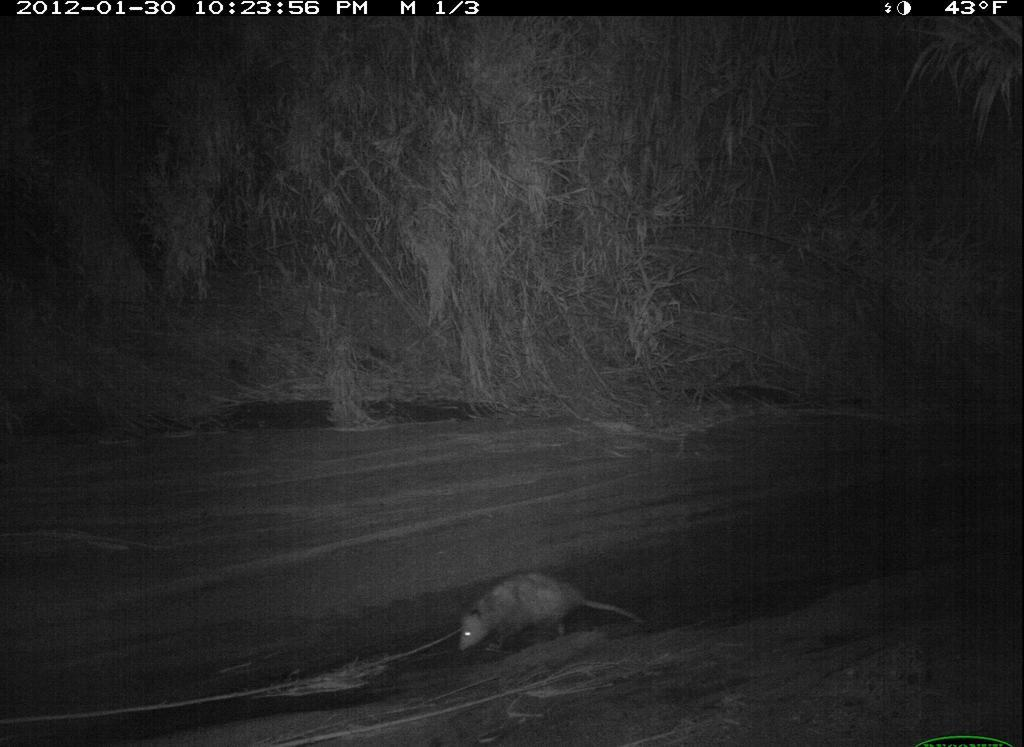opossum: (442, 555, 655, 664)
